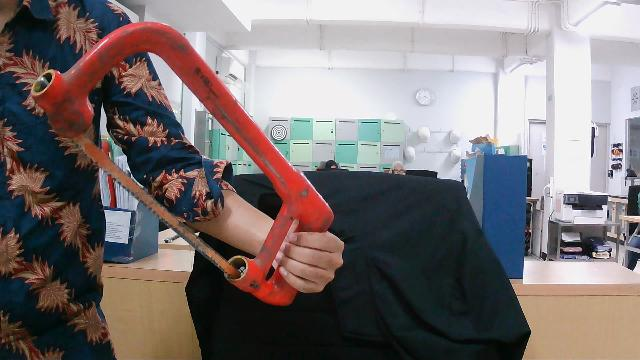gergaji_besi: (20, 24, 356, 309)
